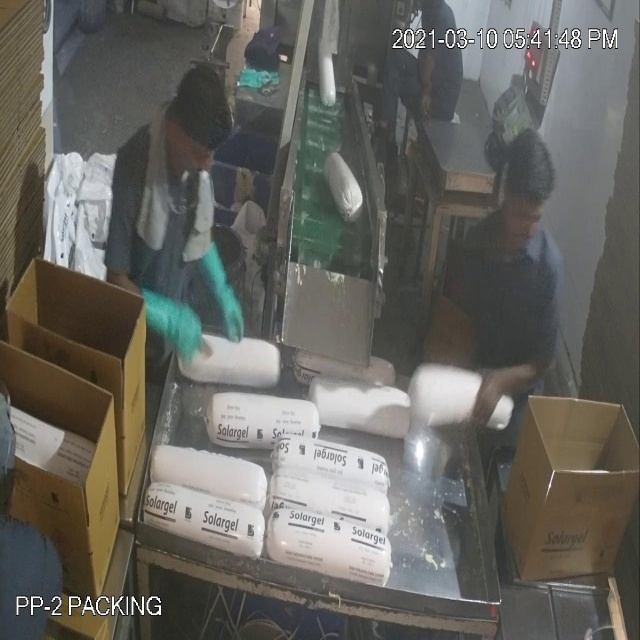Guantes: (135, 270, 215, 382), (198, 230, 261, 357)
Sin_guantes: (464, 342, 562, 427)
